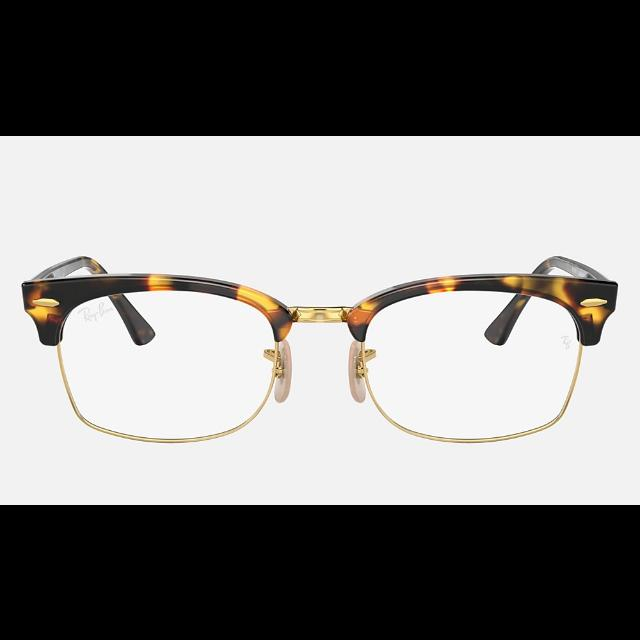glasses: (21, 253, 618, 442)
